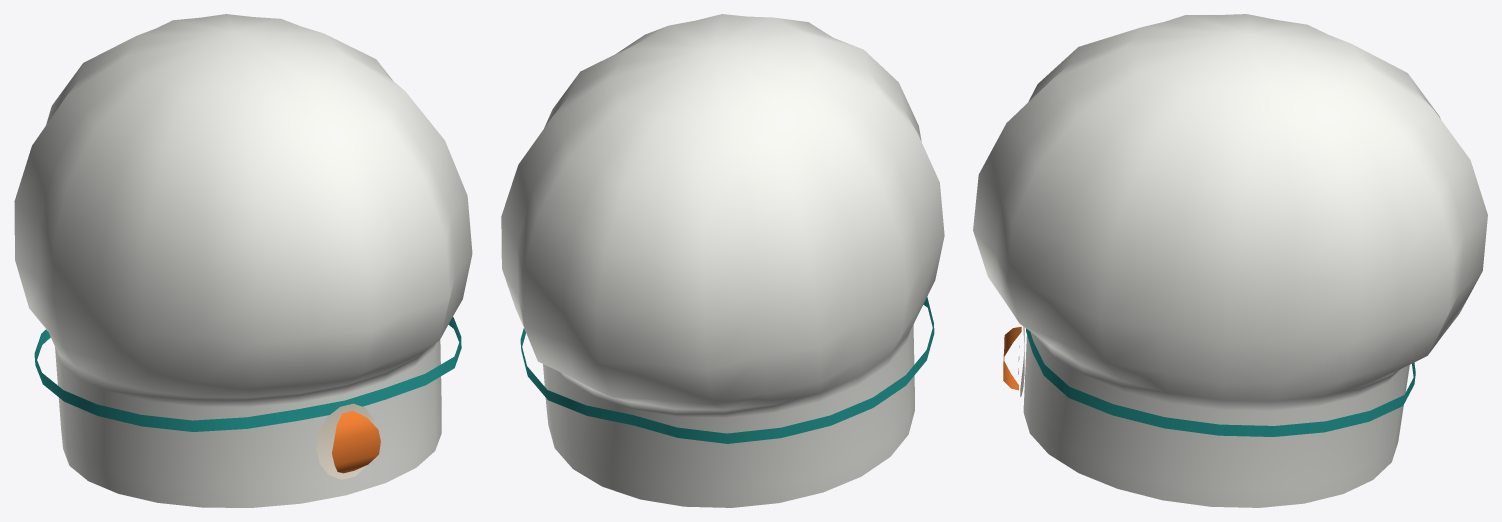
The model's file is GorroChef.fbx.
The picture shows the model from 3 angles, left to right: view 1: azimuth 30°, elevation 25°; view 2: azimuth 150°, elevation 25°; view 3: azimuth 270°, elevation 25°; orthographic projection. The views are drawn at different scales.
Parts seen in each view (by area): view 1: GorroChef; view 2: GorroChef; view 3: GorroChef.
Boxes of the visible parts, left/top/right/bottom form: GorroChef: left=14, top=14, right=472, bottom=507; GorroChef: left=501, top=14, right=944, bottom=507; GorroChef: left=973, top=14, right=1487, bottom=507.
Bounding box in the file's own units: 1.92 × 1.98 × 2.27.
1 material, 1 textured.
